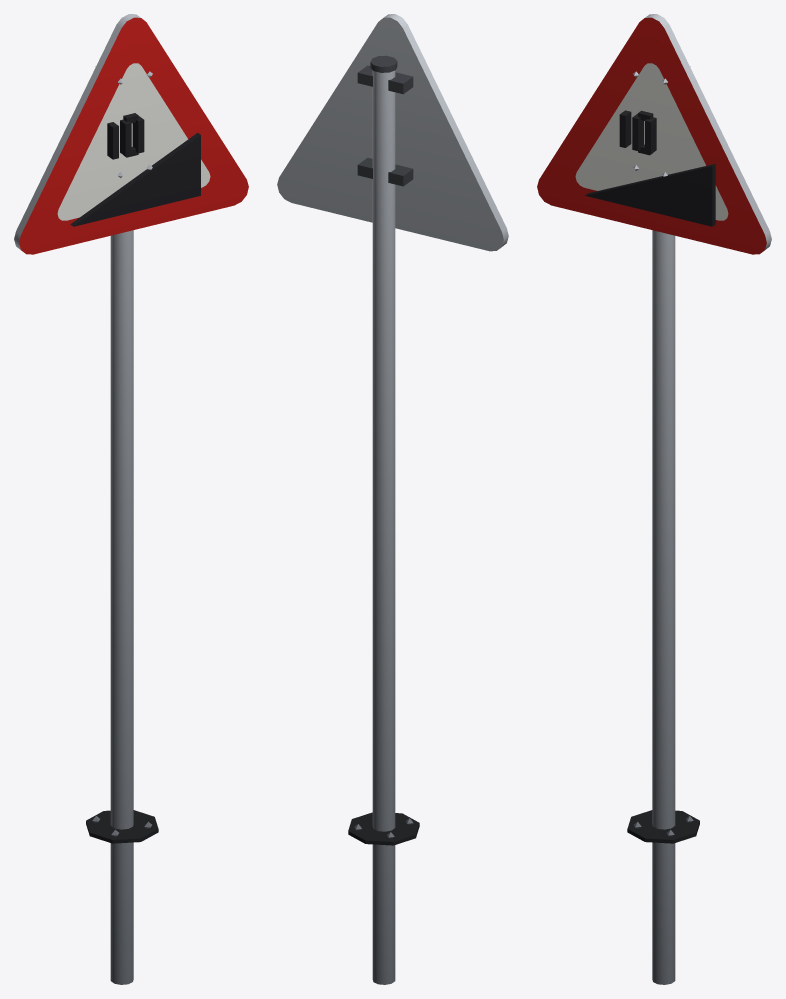
The model's file is Sign_Steep.fbx.
3 views of the same model, side by side, from view 1: azimuth 30°, elevation 25°; view 2: azimuth 150°, elevation 25°; view 3: azimuth 330°, elevation 25° (orthographic).
Visible parts, largest first — view 1: Sign_Steep_LOD0; view 2: Sign_Steep_LOD0; view 3: Sign_Steep_LOD0.
Boxes of the visible parts, bbox=[...] form: Sign_Steep_LOD0: bbox=[14, 14, 248, 984]; Sign_Steep_LOD0: bbox=[277, 14, 508, 984]; Sign_Steep_LOD0: bbox=[537, 14, 771, 984].
Size of what is drawn, in the model's own units: 0.7928 by 3.2 by 0.224.
1 material, 1 textured.
